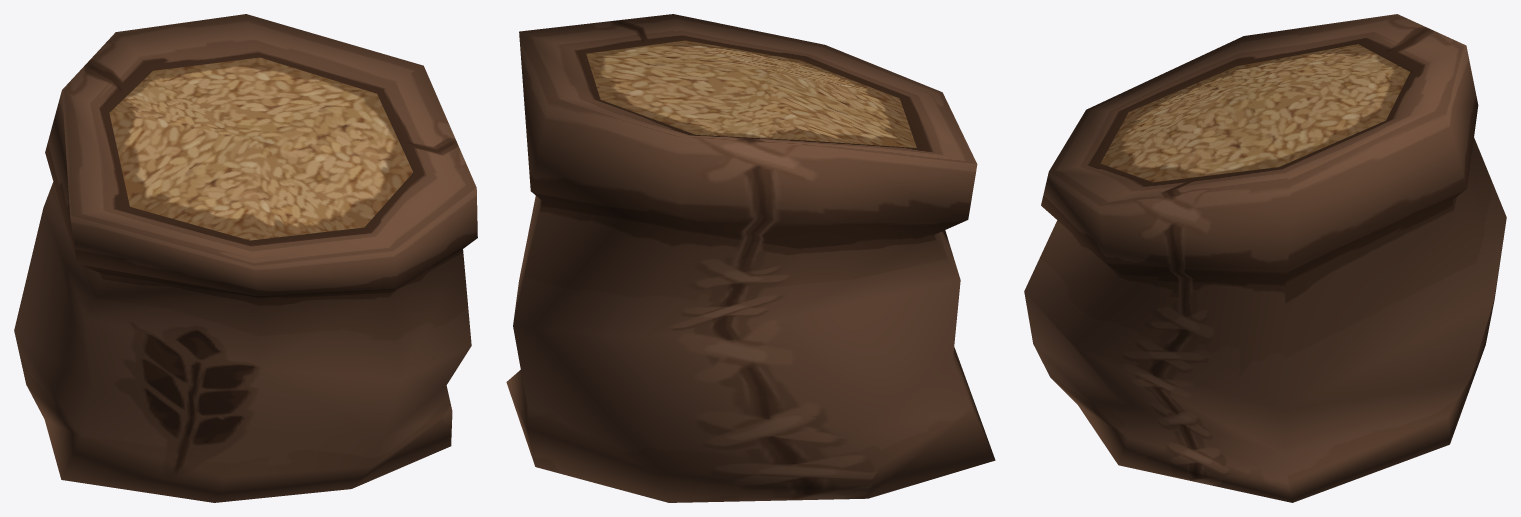
The model's file is SM_PROP_sack_interior_01.fbx.
3 views of the same model, side by side, from view 1: azimuth 30°, elevation 25°; view 2: azimuth 150°, elevation 25°; view 3: azimuth 270°, elevation 25° (orthographic). The views are drawn at different scales.
Visible parts, largest first — view 1: SM_PROP_sack_interior_01; view 2: SM_PROP_sack_interior_01; view 3: SM_PROP_sack_interior_01.
Boxes of the visible parts, left/top/right/bottom form: SM_PROP_sack_interior_01: left=14, top=14, right=477, bottom=502; SM_PROP_sack_interior_01: left=506, top=14, right=995, bottom=502; SM_PROP_sack_interior_01: left=1024, top=14, right=1506, bottom=502.
Size of the model in its own units: 46.72 by 37.24 by 47.75.
